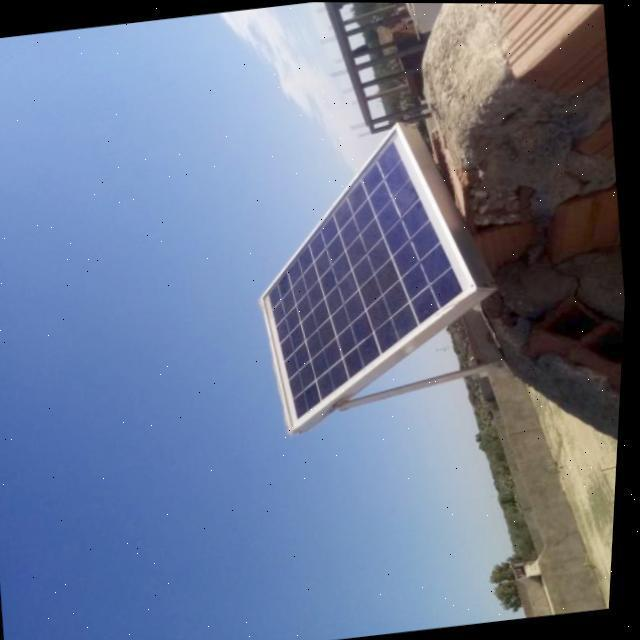Normal Solar Panel: (234, 111, 502, 430)
